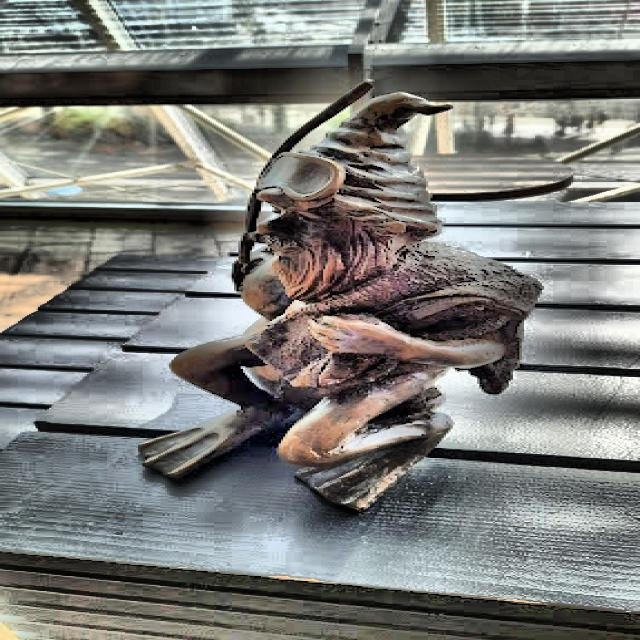Babelek_Chlaptus: (140, 83, 540, 511)
